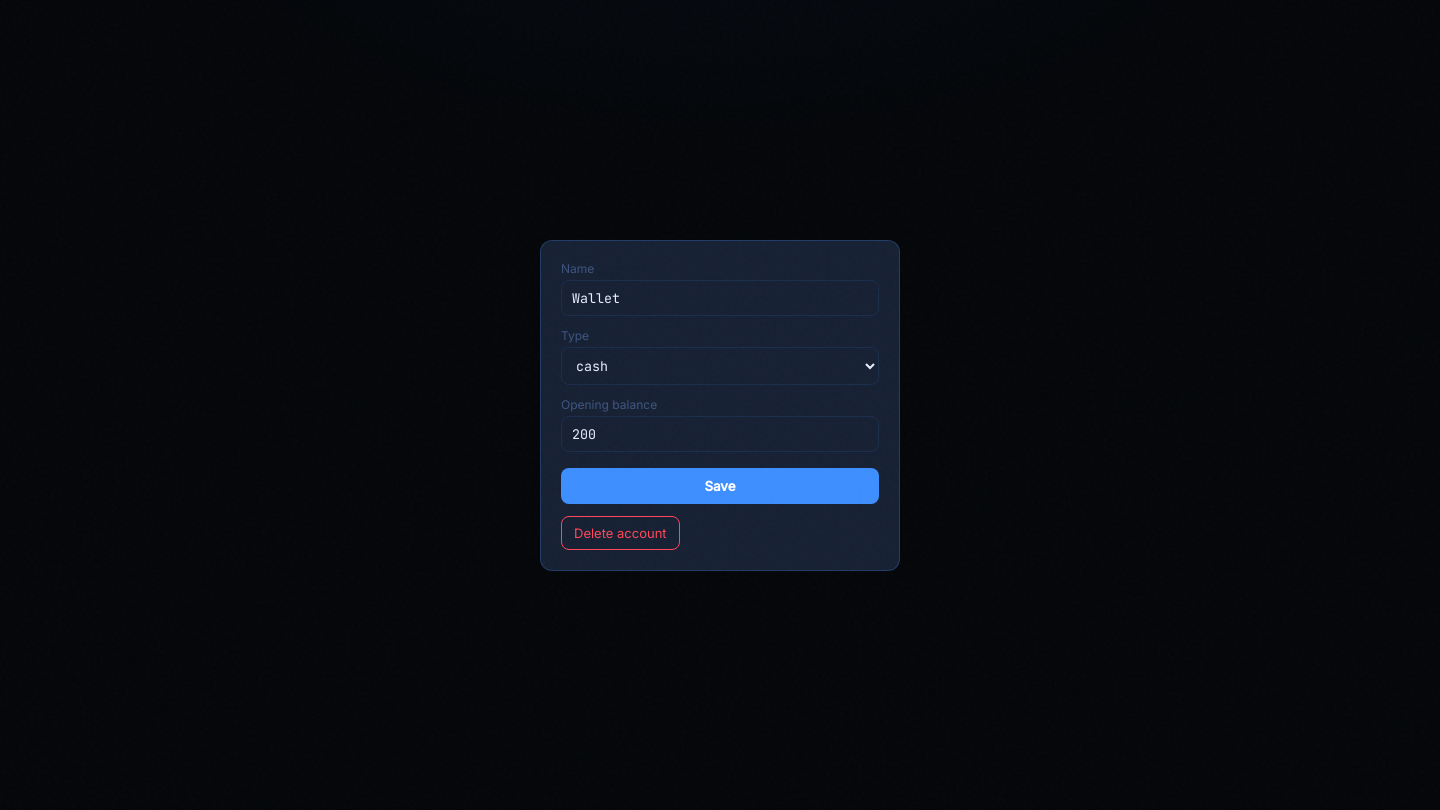
Scenario: AccountModal › shows an error when deletion fails (e.g. account has transactions)
Click the button "Delete account" at (620, 532), box [561,516,680,550]
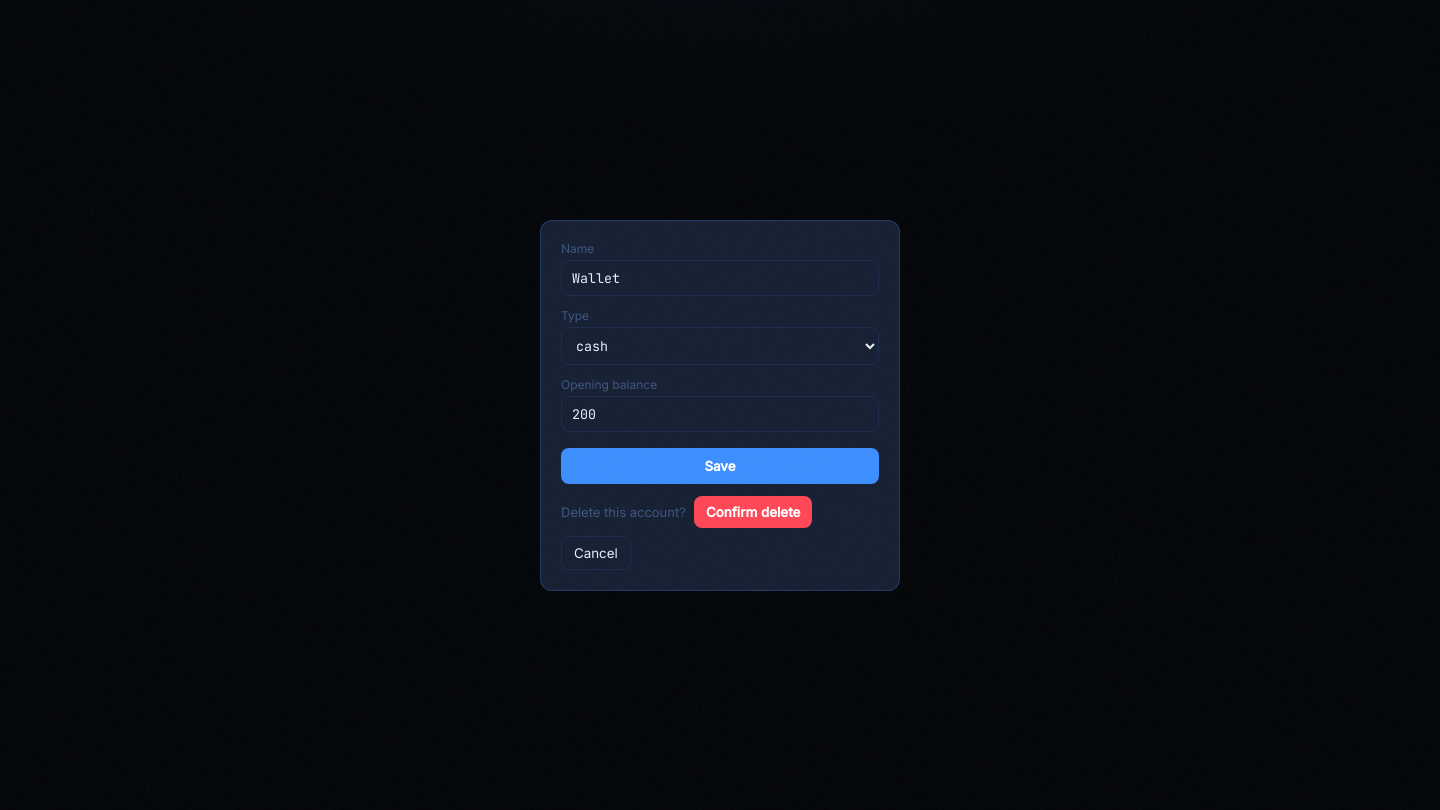
Click the button "Confirm delete" at (753, 512), box [694,496,812,528]
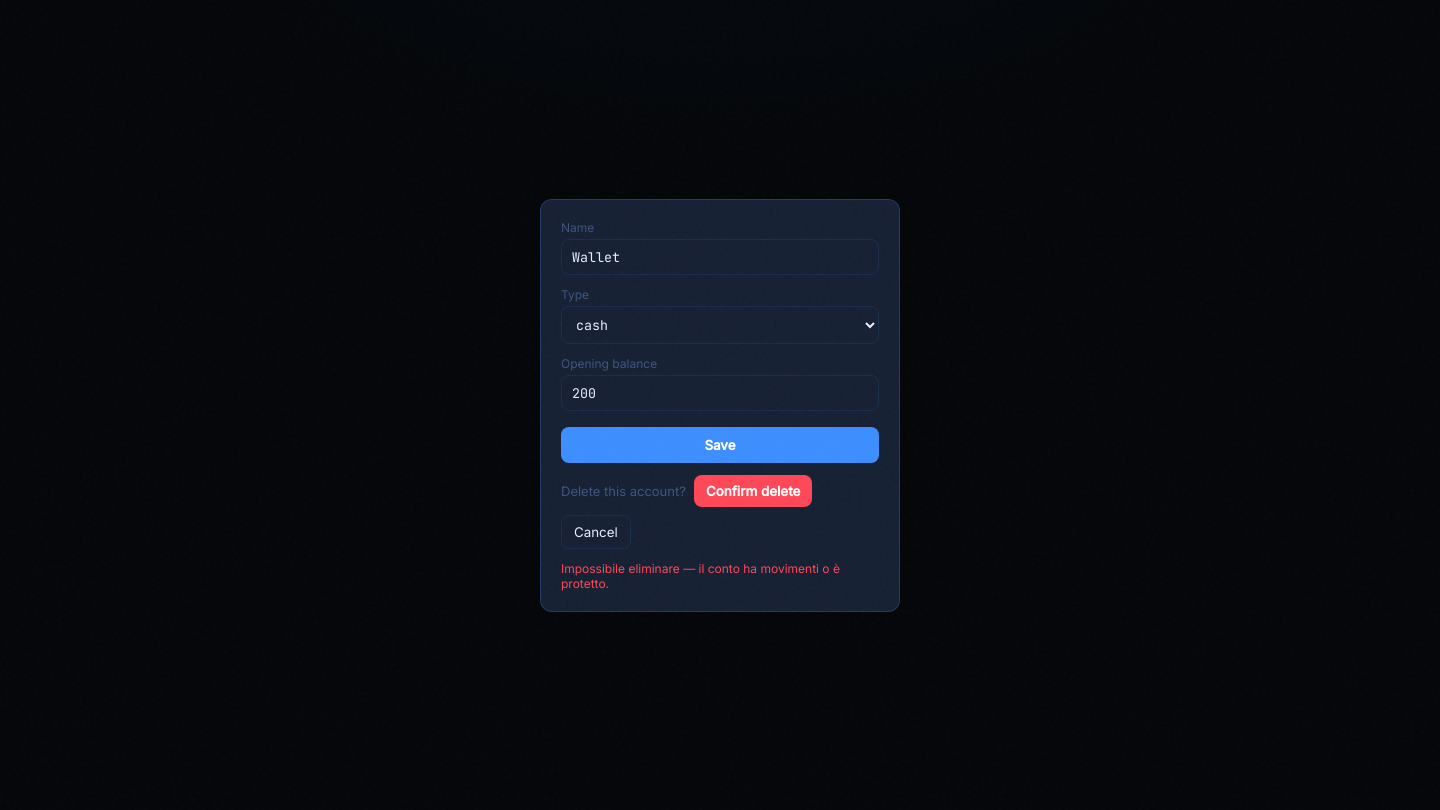
Now the text "Impossibile eliminare — il conto ha movimenti o è protetto." is shown, box [561,560,879,590]
